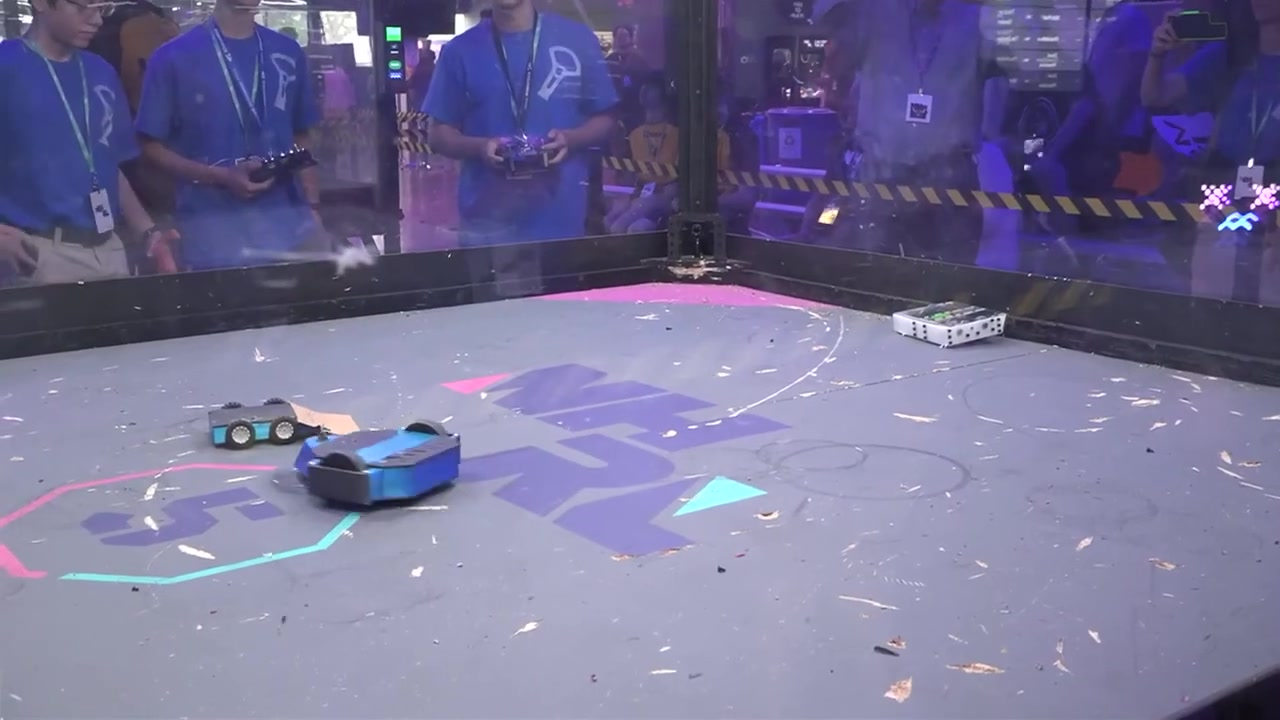combatbot: (296, 420, 465, 509), (891, 301, 1009, 348)
minibot: (204, 398, 312, 450)
